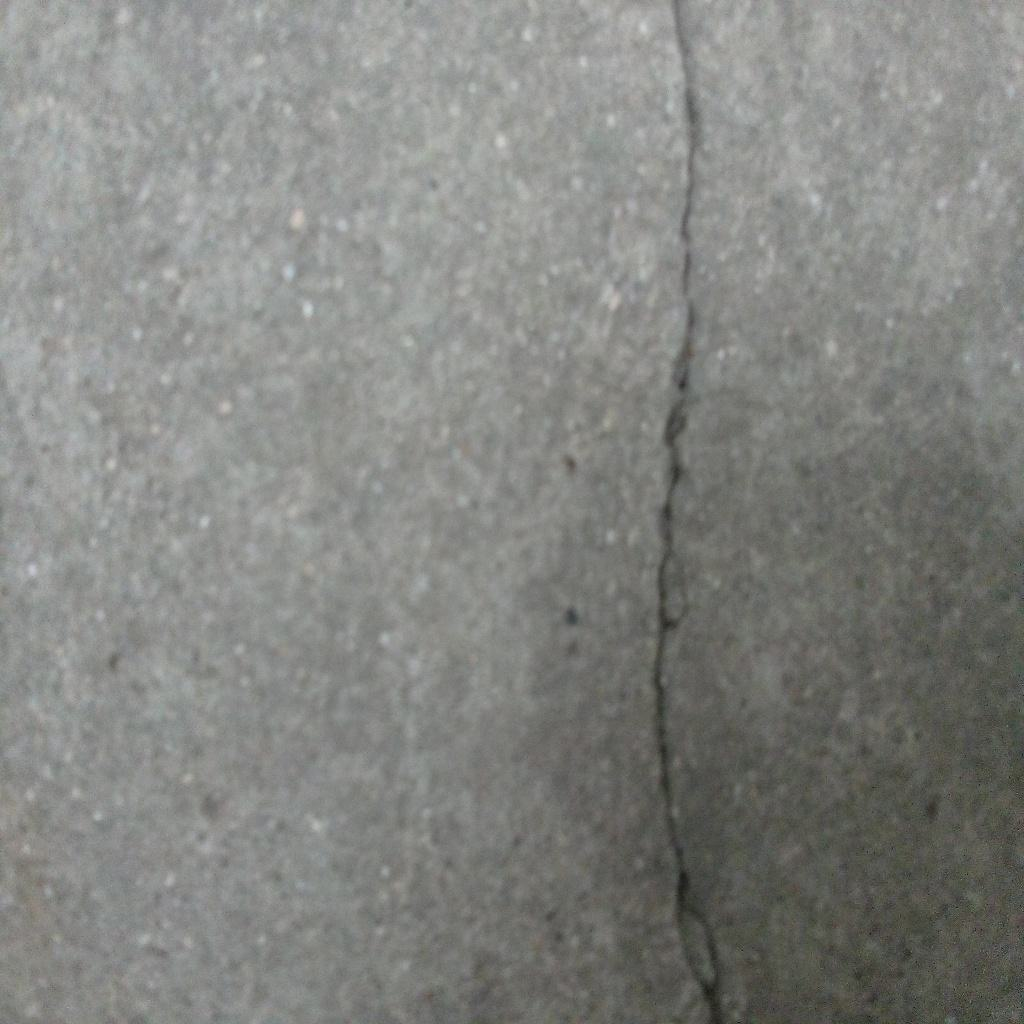Crack: (649, 1, 728, 1024)
